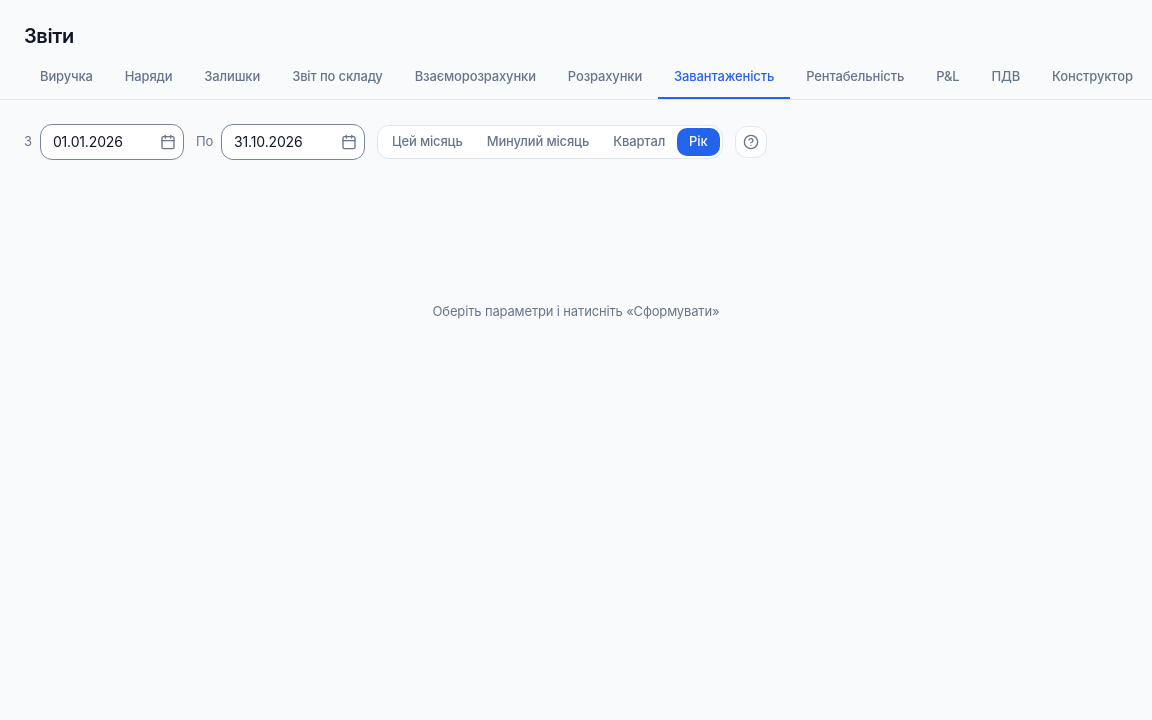
Звіти — «?» за вкладкою › load: «?» пояснює саме цей звіт
Click the button named "Як рахується «Завантаженість»": x=750, y=142 x1=734 y1=126 x2=766 y2=158
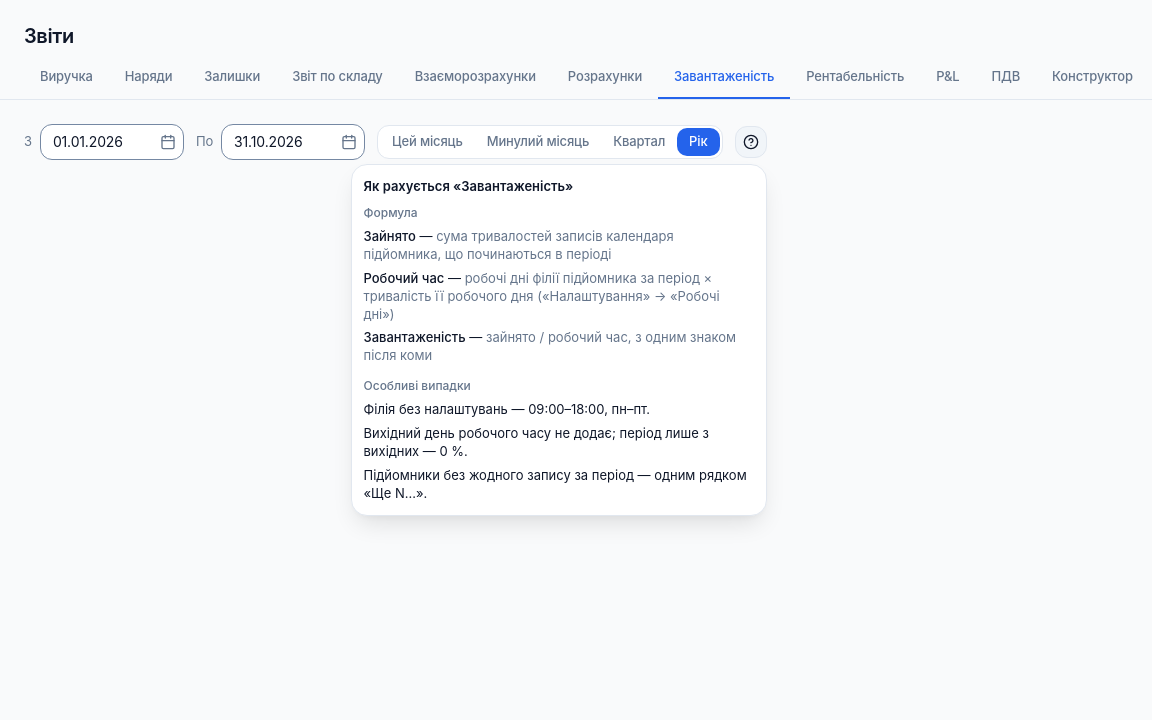
Result: the dialog shows "09:00–18:00, пн–пт" at x1=364 y1=401 x2=650 y2=417
